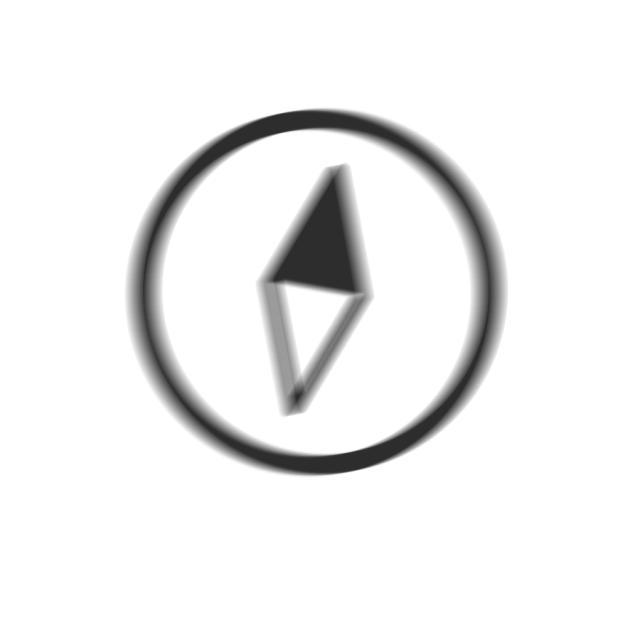compass: (117, 100, 518, 491)
